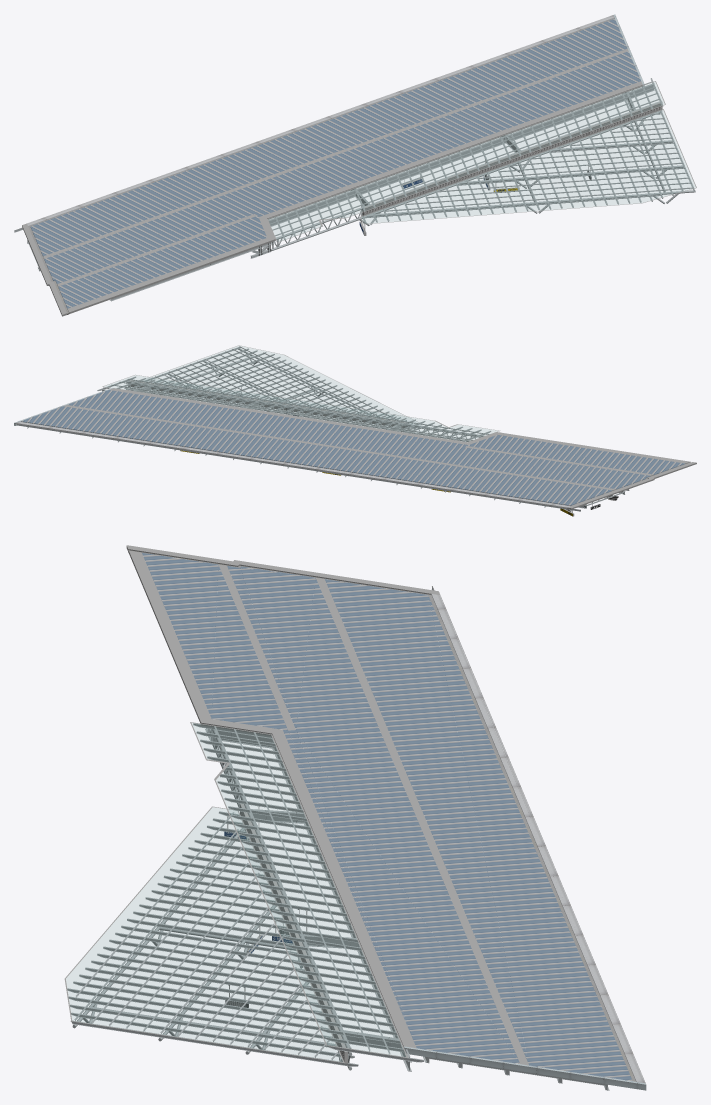
The model's file is OfficialBusanStation_ExitRoofs.fbx.
3 views of the same model, one above another, from view 1: azimuth 30°, elevation 25°; view 2: azimuth 150°, elevation 25°; view 3: azimuth 270°, elevation 25° (orthographic). The views are drawn at different scales.
Parts seen in each view (by area): view 1: OfficialStation_-부산역_출구지붕_1, OfficialStation_-부산역_출구지붕_0; view 2: OfficialStation_-부산역_출구지붕_1, OfficialStation_-부산역_출구지붕_0; view 3: OfficialStation_-부산역_출구지붕_1, OfficialStation_-부산역_출구지붕_0.
Boxes of the visible parts, box(x1,y1,x2,y2) form: OfficialStation_-부산역_출구지붕_1: box(14, 14, 696, 316); OfficialStation_-부산역_출구지붕_0: box(27, 83, 662, 271); OfficialStation_-부산역_출구지붕_1: box(14, 345, 696, 516); OfficialStation_-부산역_출구지붕_0: box(102, 381, 625, 508); OfficialStation_-부산역_출구지붕_1: box(64, 545, 646, 1090); OfficialStation_-부산역_출구지붕_0: box(212, 729, 609, 1090).
Size of the model in its own units: 10754 by 374 by 4899.
28 materials, 15 textured.
